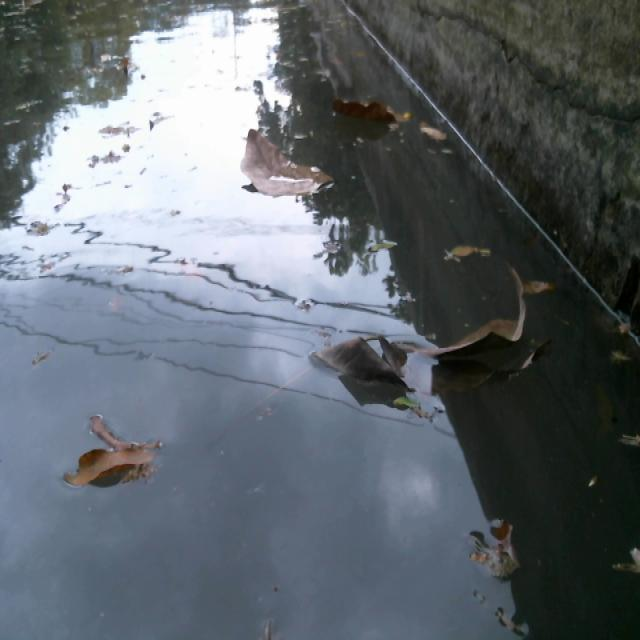Big-leaf: (424, 274, 532, 396), (235, 119, 348, 213), (317, 320, 397, 410), (73, 445, 175, 491), (330, 97, 415, 134)
Small-leaf: (465, 488, 523, 602), (418, 116, 460, 167), (89, 415, 148, 451), (438, 238, 492, 272), (602, 344, 640, 389), (361, 230, 405, 261), (613, 535, 640, 582), (25, 206, 54, 245), (143, 107, 172, 141), (99, 123, 138, 145), (524, 270, 553, 297), (622, 419, 640, 458), (116, 53, 141, 79), (92, 151, 125, 167)
